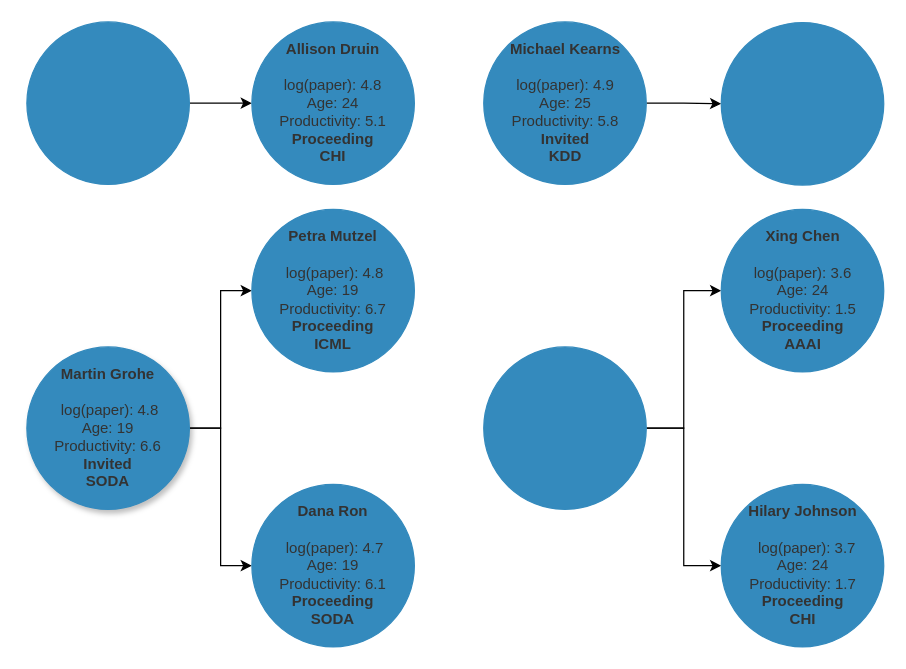
Image size: 906x669. Some labels were removed from this diagram. The centre of each missing label's shape, as x and y in pixels:
Louise E. Moser log(paper): 5.1 Age: 24 Productivity: 6.8 Proceeding KDD: [802,103]
Tim Berners-Lee log(paper): 3.7 Age: 24 Productivity: 1.7 Invited WWW: [564,427]
Yann LeCun log(paper): 4.7 Age: 24 Productivity: 4.9 Inivted ICML: [107,102]
